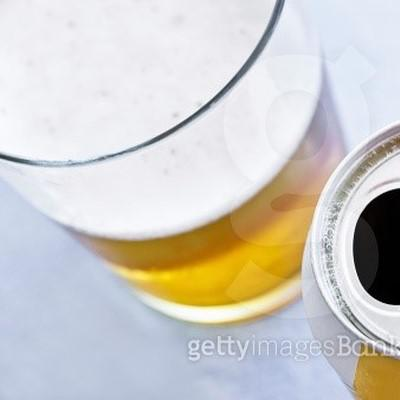beer: (297, 115, 399, 400)
